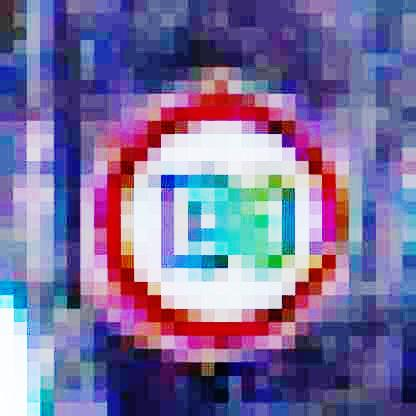Speed Limit -100-: (92, 88, 349, 356)
